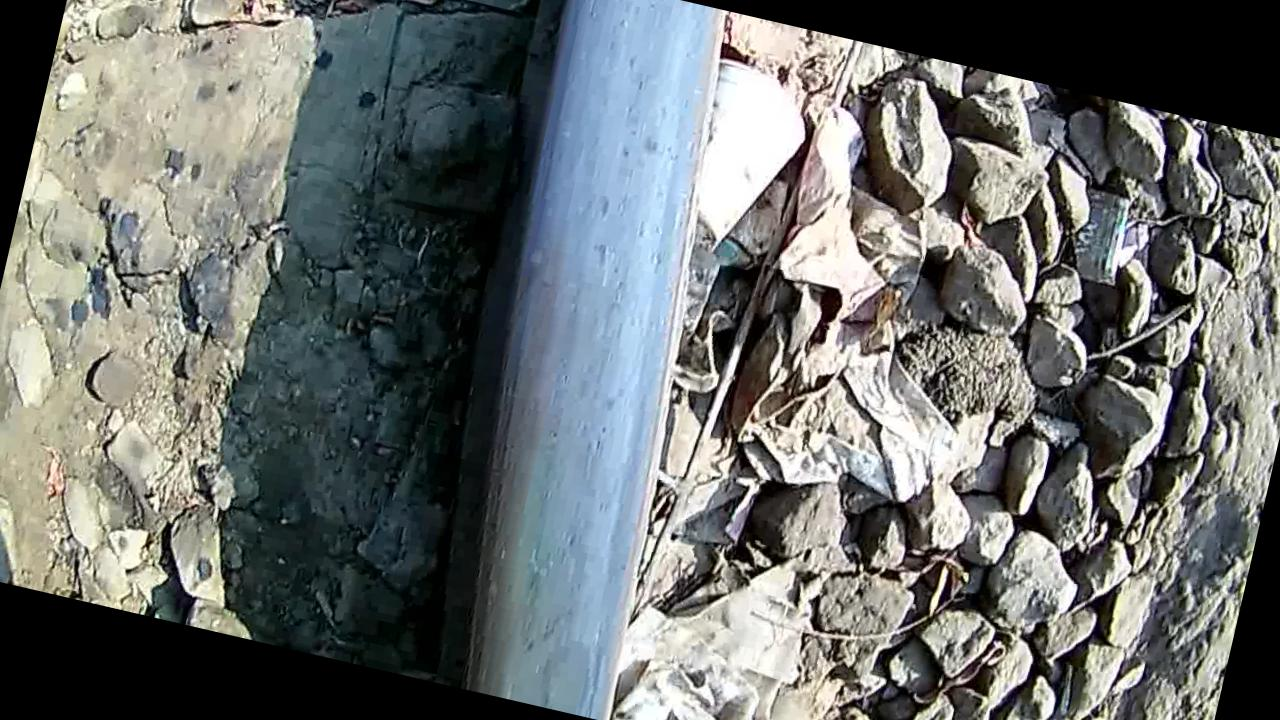bolt_missing: (525, 624, 626, 720)
